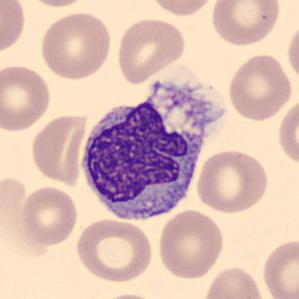Monocyte: (74, 78, 215, 229)
RBC: (38, 9, 114, 82), (73, 217, 155, 284), (114, 15, 188, 85), (194, 148, 271, 215), (156, 208, 226, 280), (226, 51, 294, 122), (28, 111, 89, 188), (19, 184, 80, 247), (0, 62, 53, 133), (208, 0, 282, 48), (259, 236, 298, 299), (200, 264, 270, 299), (275, 94, 299, 168), (0, 0, 28, 57), (146, 0, 216, 18), (285, 20, 299, 84), (21, 0, 94, 9)
